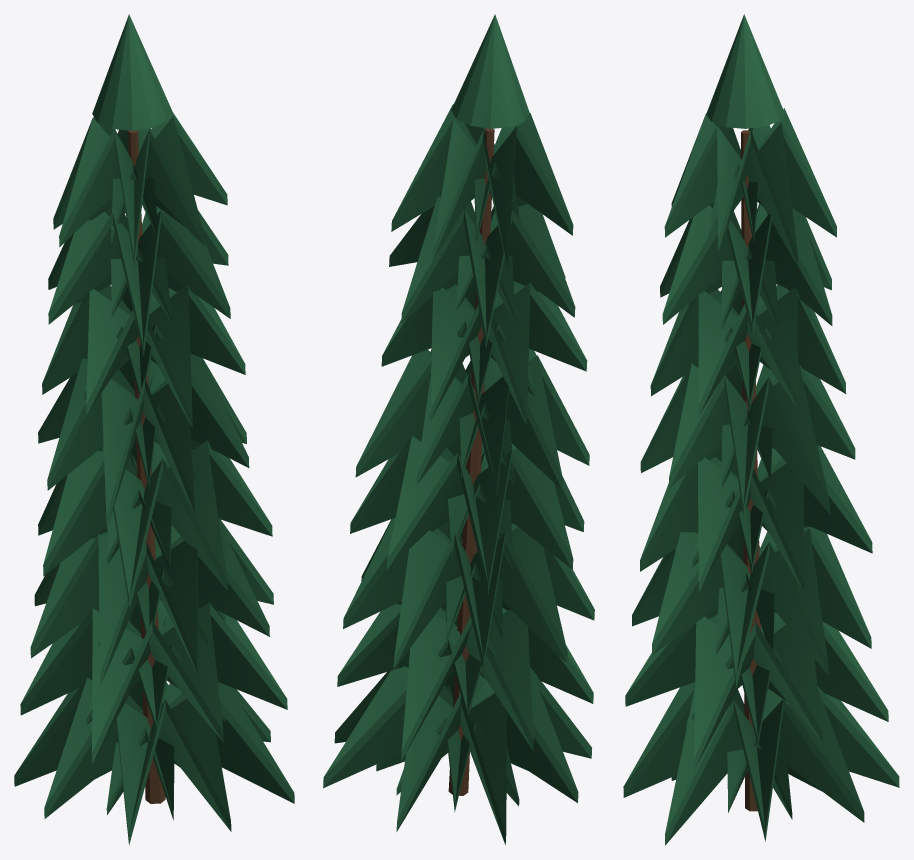
File: tree_pine_c_tall.glb
3 views of the same model, side by side, from view 1: azimuth 30°, elevation 25°; view 2: azimuth 150°, elevation 25°; view 3: azimuth 270°, elevation 25° (orthographic). The views are drawn at different scales.
Visible parts, largest first — view 1: Canopy, Trunk; view 2: Canopy, Trunk; view 3: Canopy, Trunk.
Boxes of the visible parts, x1=… form: Canopy: x1=14, y1=14, x2=294, y2=845; Trunk: x1=128, y1=130, x2=165, y2=803; Canopy: x1=323, y1=14, x2=594, y2=844; Trunk: x1=448, y1=128, x2=494, y2=795; Canopy: x1=623, y1=14, x2=899, y2=845; Trunk: x1=741, y1=130, x2=762, y2=811.
Size of the model in its own units: 5.49 by 17.49 by 5.61.
1 material, 1 textured.
